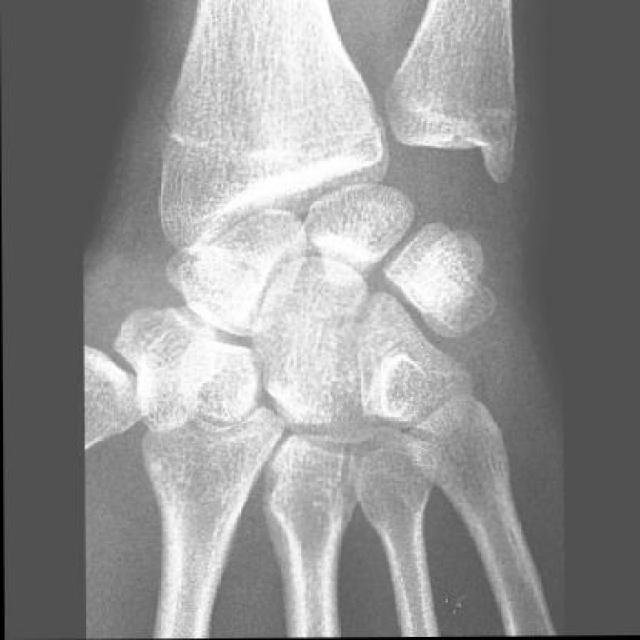Fracture: (274, 317, 383, 441), (179, 243, 261, 301)
